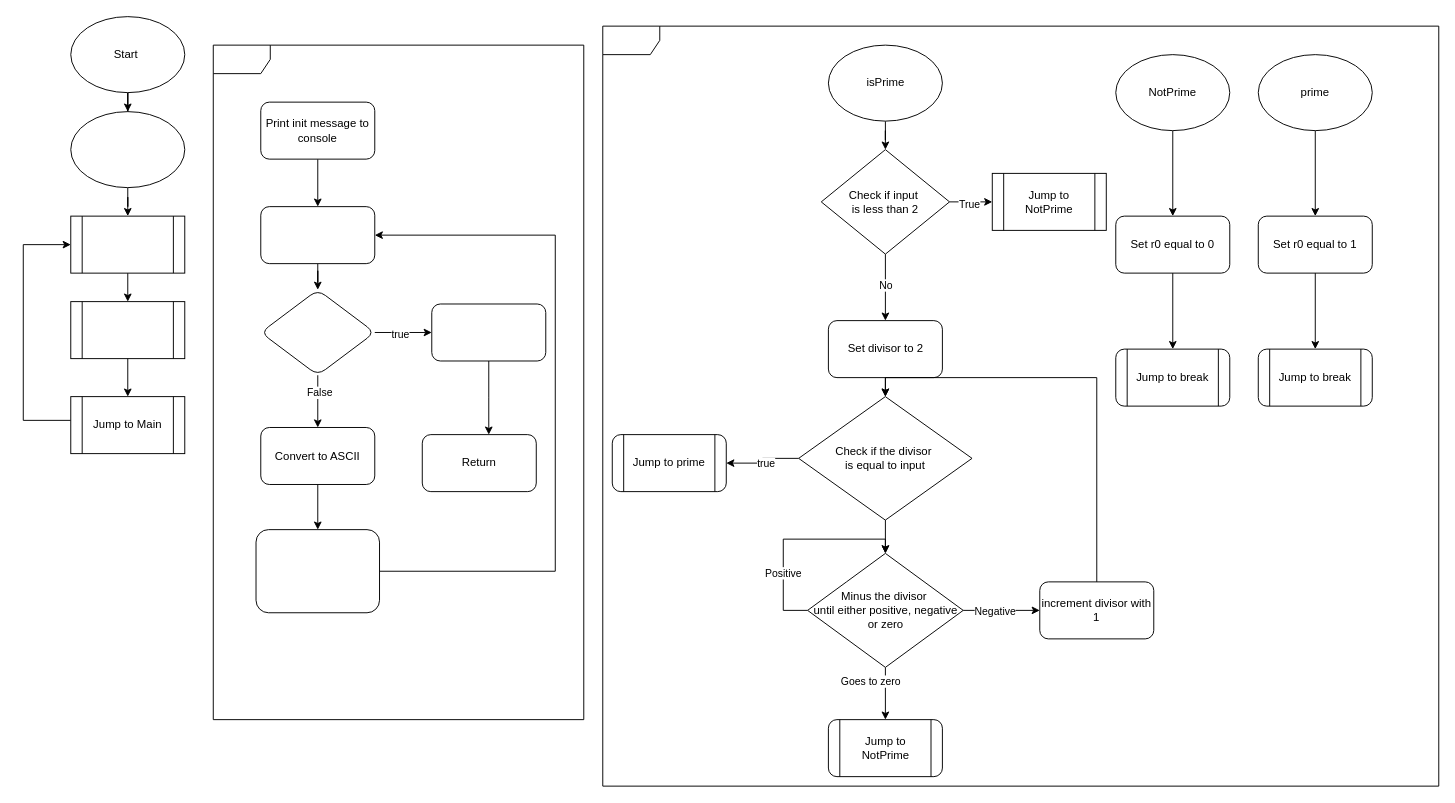
Image size: 1455x803. Some labels were removed from this diagram. The shapes that lost their labels are listed below. From the top down, each one's box as (x1, y1, x2, y2) in pixels, then its label:
(70, 111, 185, 188): Main
(70, 215, 185, 273): Jump to subroutine readS
(260, 206, 375, 264): Read char from console
(70, 301, 185, 359): Jump to subroutine isPrime
(260, 289, 375, 375): Check if char is Enter
(431, 303, 546, 361): Move result to register 0
(212, 44, 584, 720): readS
(602, 25, 1439, 786): Prime function
(255, 529, 380, 613): Times the accumilated number by 10 and then store the input added that, into R3
